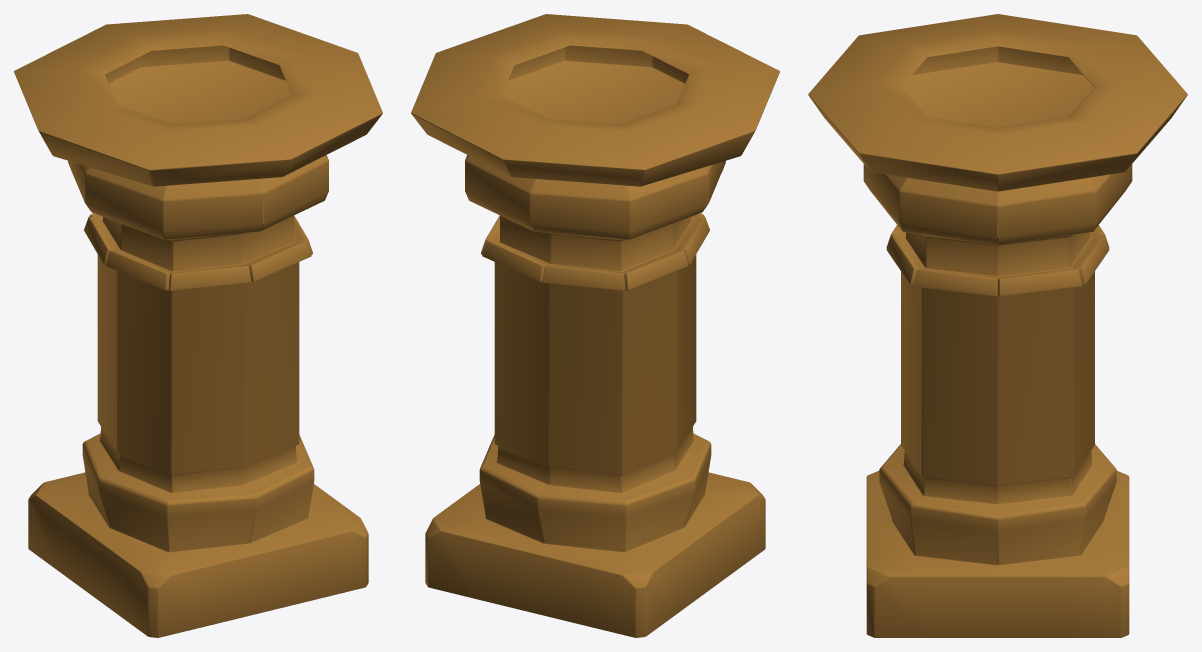
File: torch1.fbx
3 views of the same model, side by side, from view 1: azimuth 30°, elevation 25°; view 2: azimuth 150°, elevation 25°; view 3: azimuth 270°, elevation 25° (orthographic). The views are drawn at different scales.
Visible parts, largest first — view 1: Cube; view 2: Cube; view 3: Cube.
Boxes of the visible parts, box(x1,y1,x2,y2) form: Cube: box(14, 14, 382, 637); Cube: box(411, 14, 779, 637); Cube: box(808, 14, 1187, 637).
Bounding box in the file's own units: 289 × 420 × 289.
